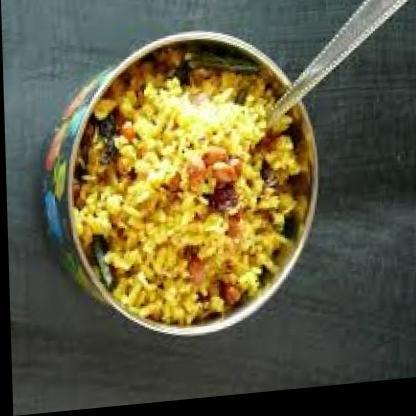poha: (67, 41, 309, 337)
